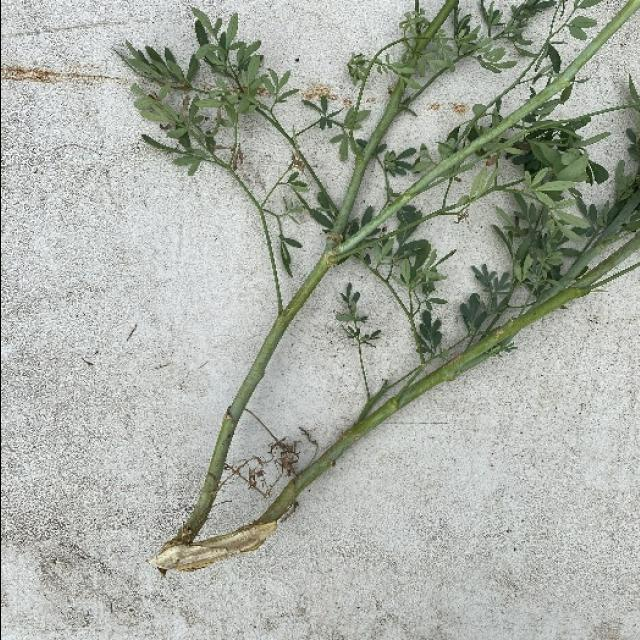organik: (152, 0, 640, 584)
